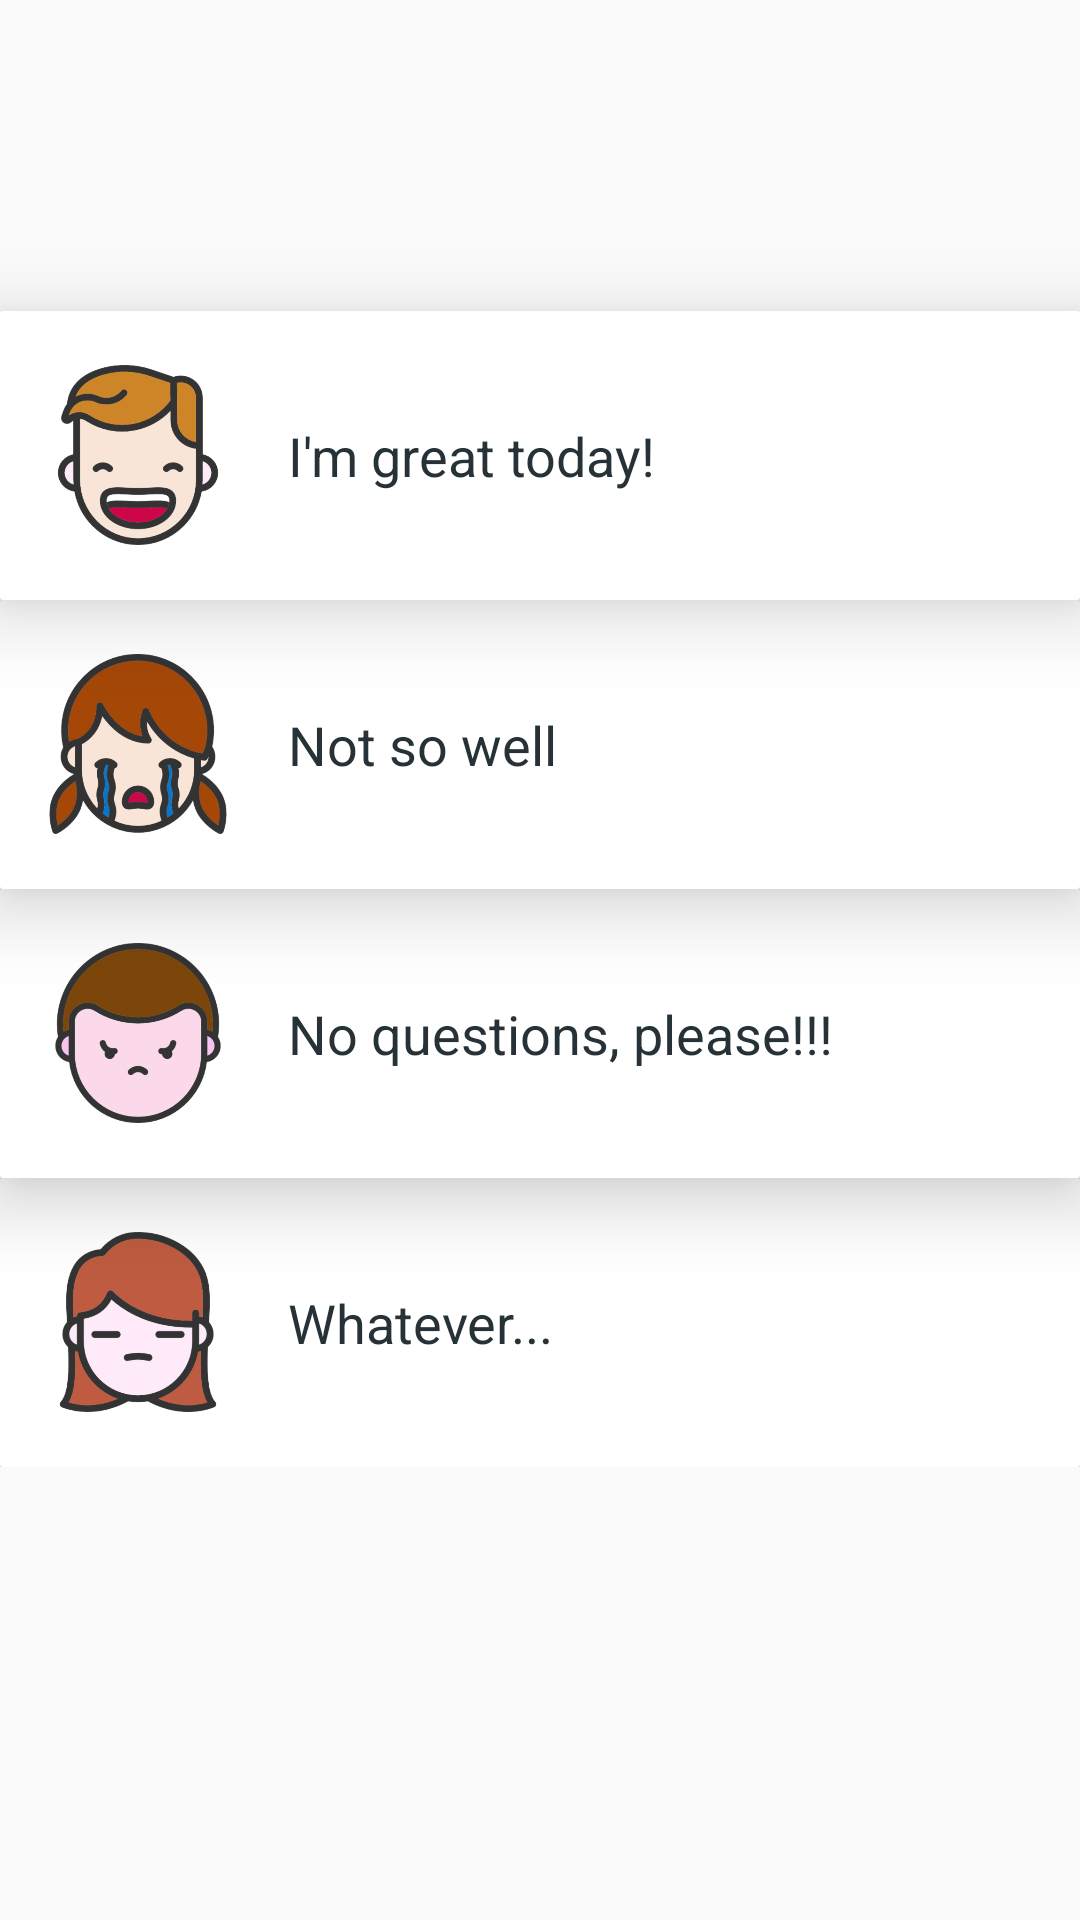

Icons on this 1080*1920 Android screen, each with the point to tap as (x=x, y=y):
angry: (x=138, y=1033)
crying: (x=138, y=744)
happygreat: (x=138, y=455)
inexpressive: (x=138, y=1322)
